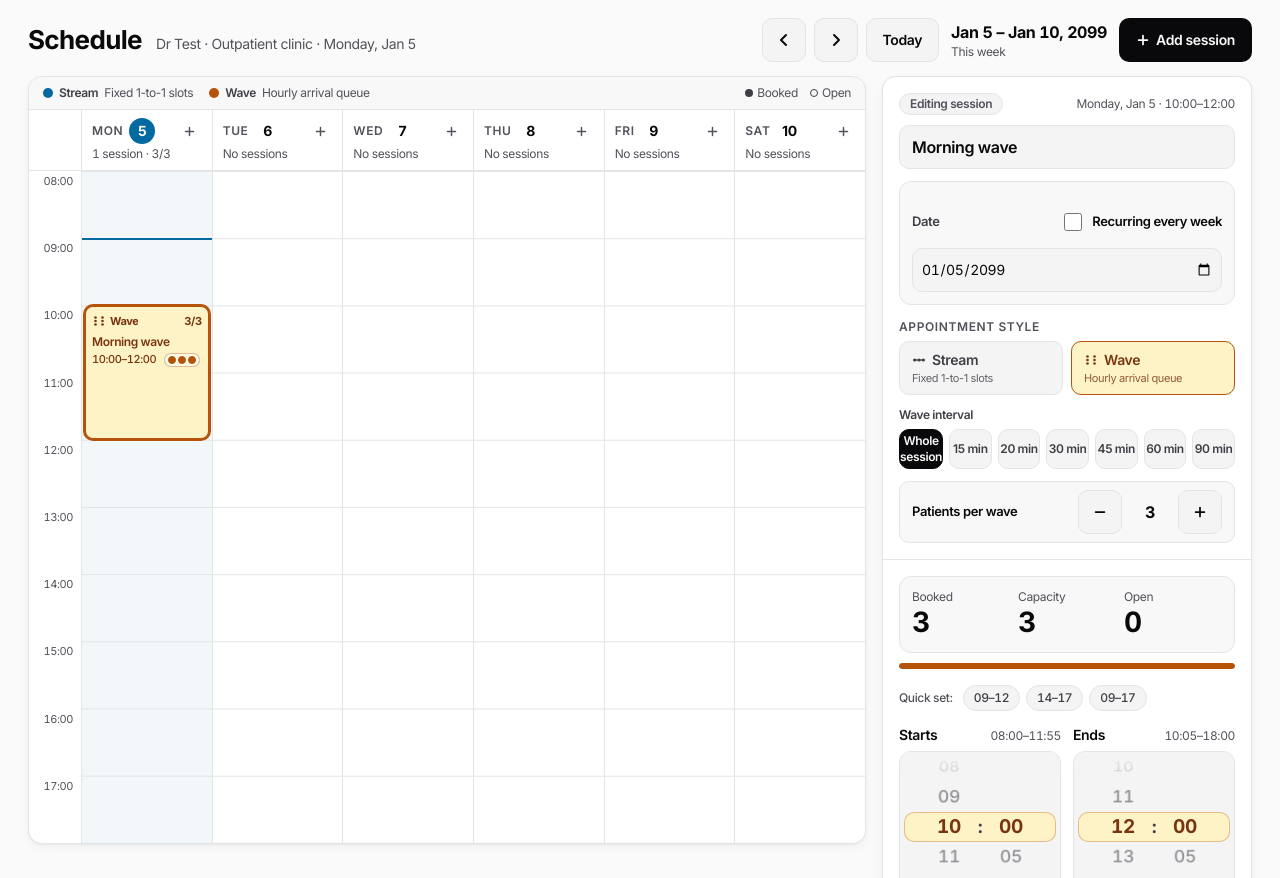
Test: DoctorSchedule › has no weekly booked banner, and keeps the week navigator in the page heading
(page scrolled)
Expected: the text "This week" is shown, [951,44,1005,59]
Click the button named "Next week".
click(836, 40)  # box [814,18,858,62]
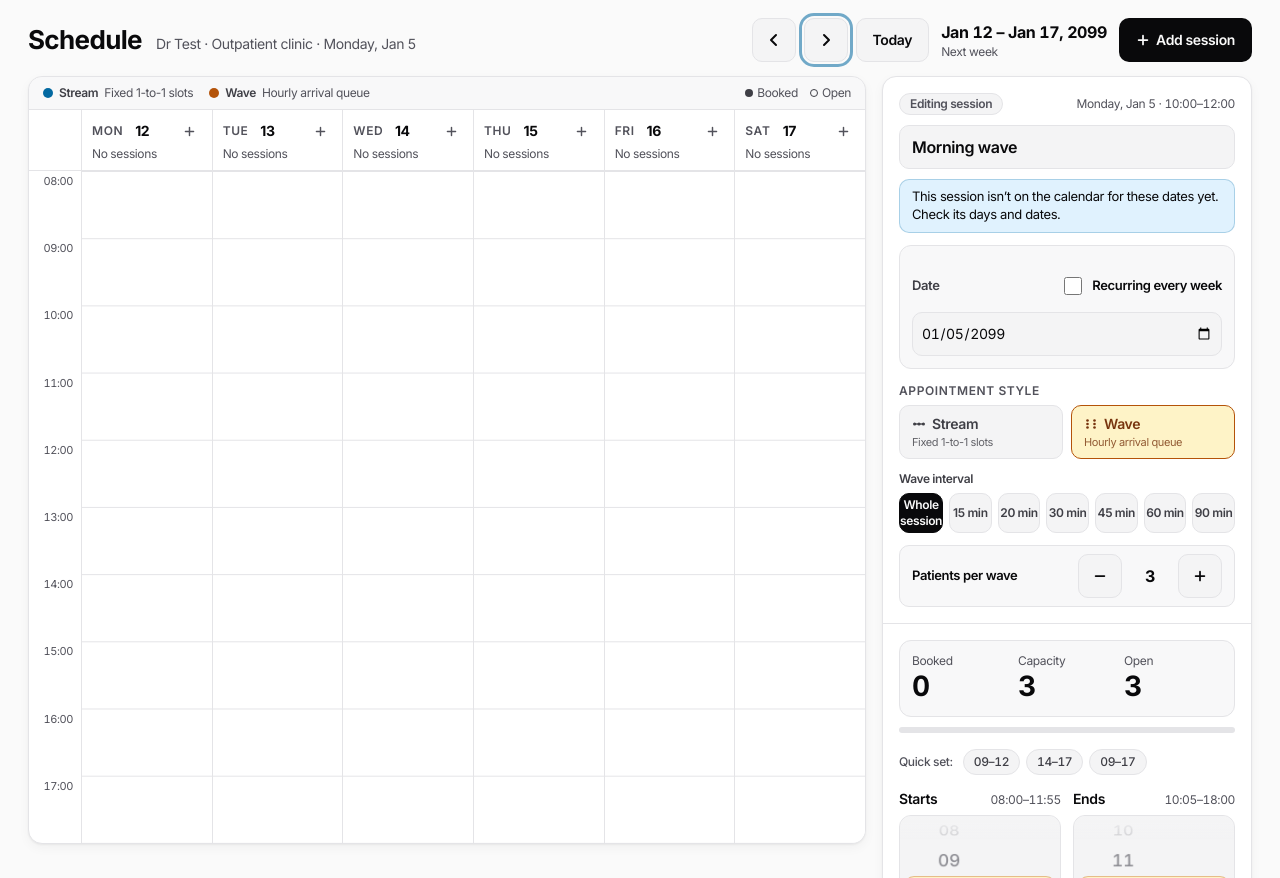
Now the text "Next week" is shown, box [941,44,998,59]
Click the button "Today".
click(892, 40)  # box [856,18,929,62]
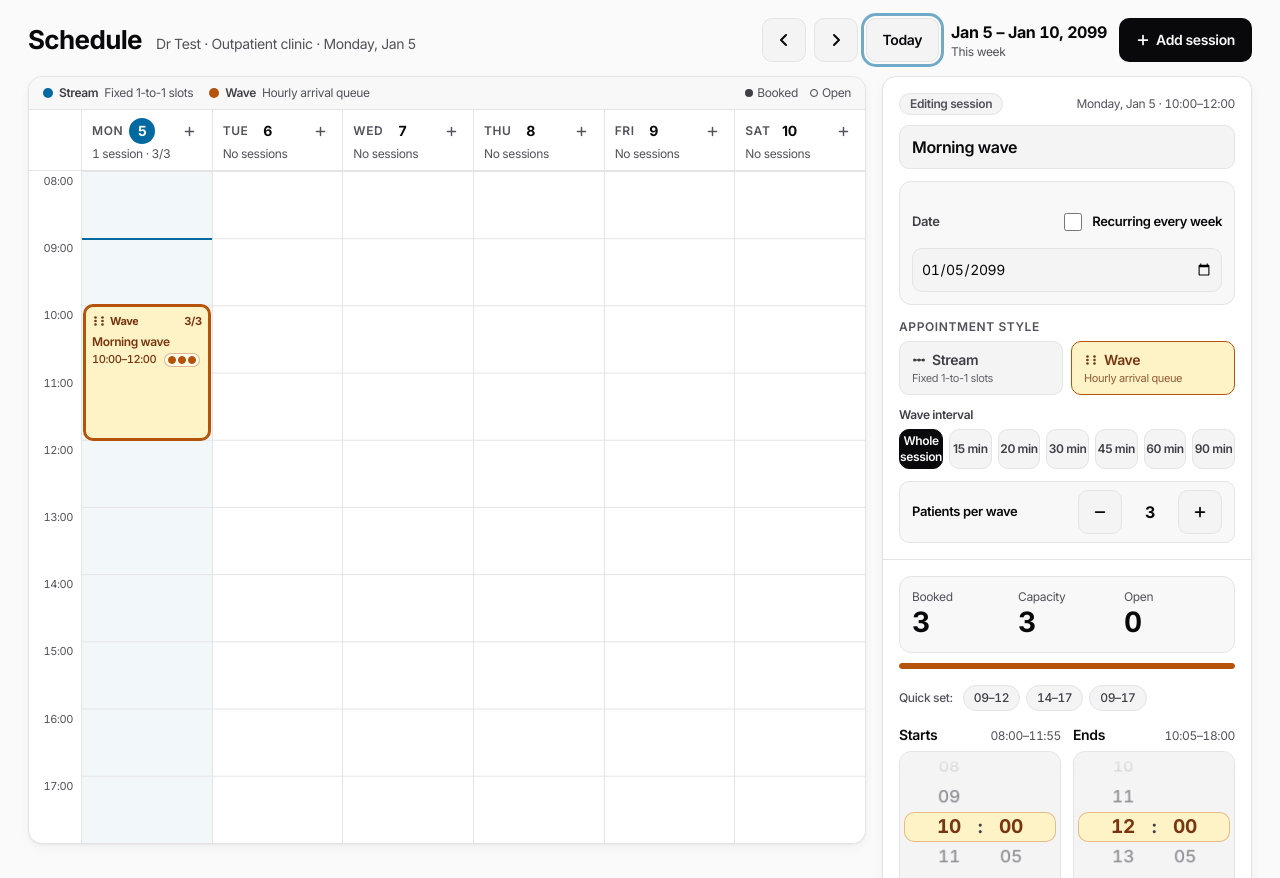
Now the text "This week" is shown, box [951,44,1005,59]
